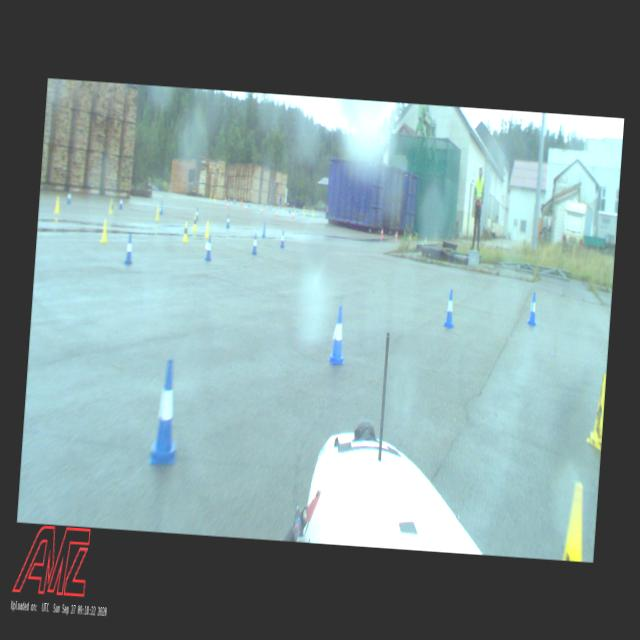blue_cone: (148, 358, 183, 465), (328, 306, 348, 364), (442, 288, 456, 328), (527, 292, 538, 326), (124, 232, 134, 264), (205, 234, 213, 260), (251, 234, 257, 254), (279, 229, 285, 247), (66, 190, 72, 203), (262, 224, 266, 238), (226, 214, 230, 227), (159, 201, 163, 214), (119, 196, 122, 208), (196, 207, 198, 220)
orange_cone: (394, 231, 398, 240), (381, 228, 384, 236), (244, 203, 246, 212), (260, 206, 262, 214), (240, 198, 242, 206), (276, 210, 278, 217), (292, 211, 294, 218)
yellow_cone: (562, 481, 587, 562), (585, 372, 606, 450), (100, 219, 108, 242), (182, 221, 188, 241), (54, 196, 60, 213), (108, 198, 114, 214), (204, 221, 210, 237), (192, 214, 197, 230), (155, 206, 159, 220)
